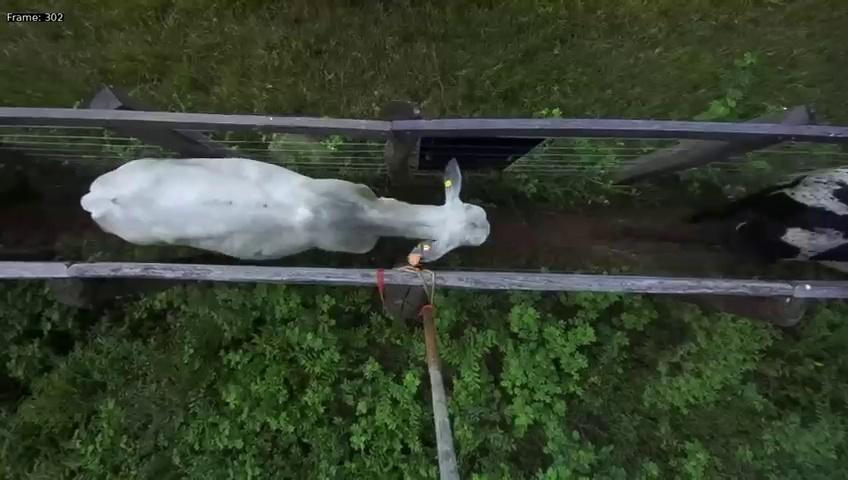cattle: (82, 147, 490, 267)
